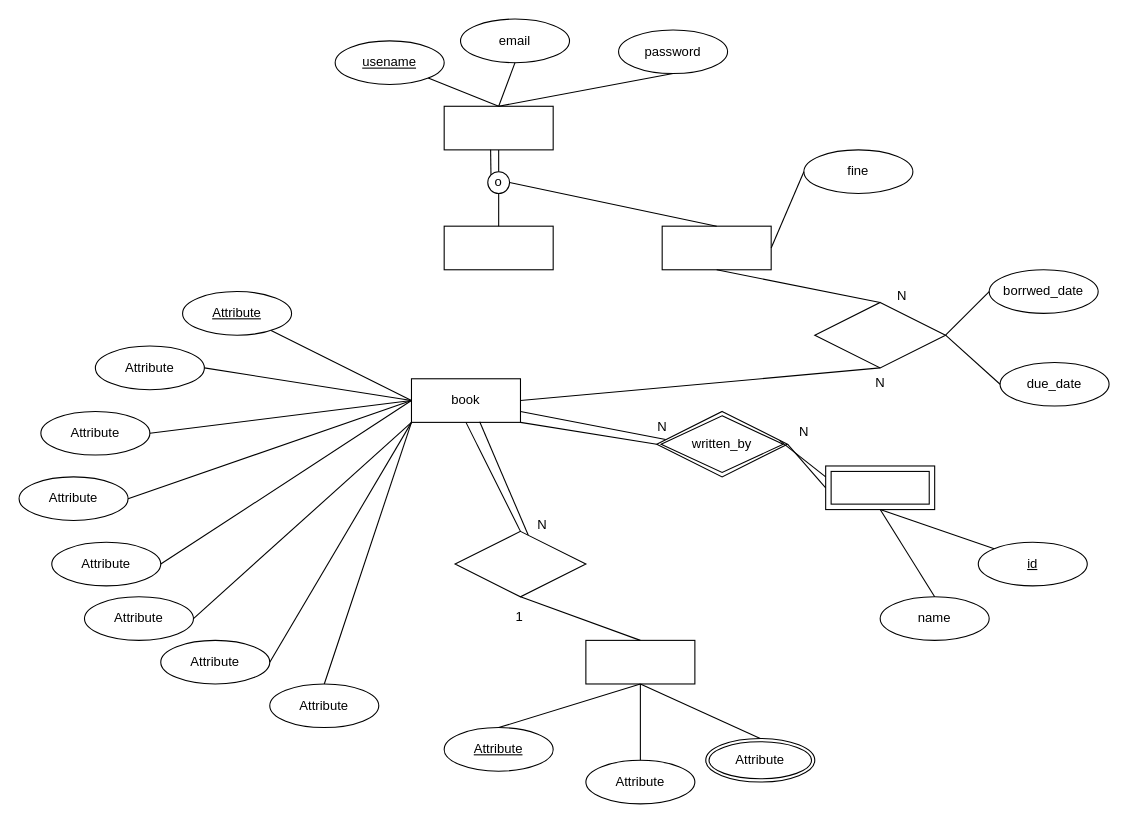
This 1128x823 diagram has some shape labels left out. The centre of each missing label's shape, as x and y in pixels:
account: [498,127]
author: [880,487]
borrow: [880,334]
division: [640,661]
librarian: [498,247]
member: [716,247]
placed_at: [520,563]
